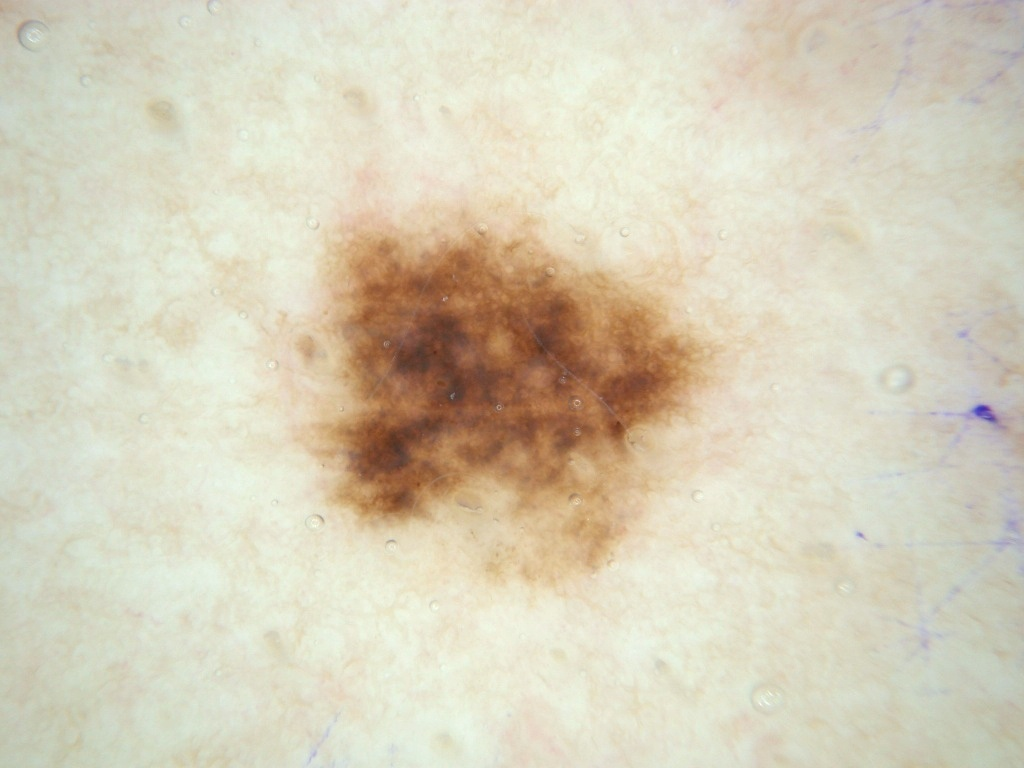Detected Lesion: (289, 211, 724, 579)
